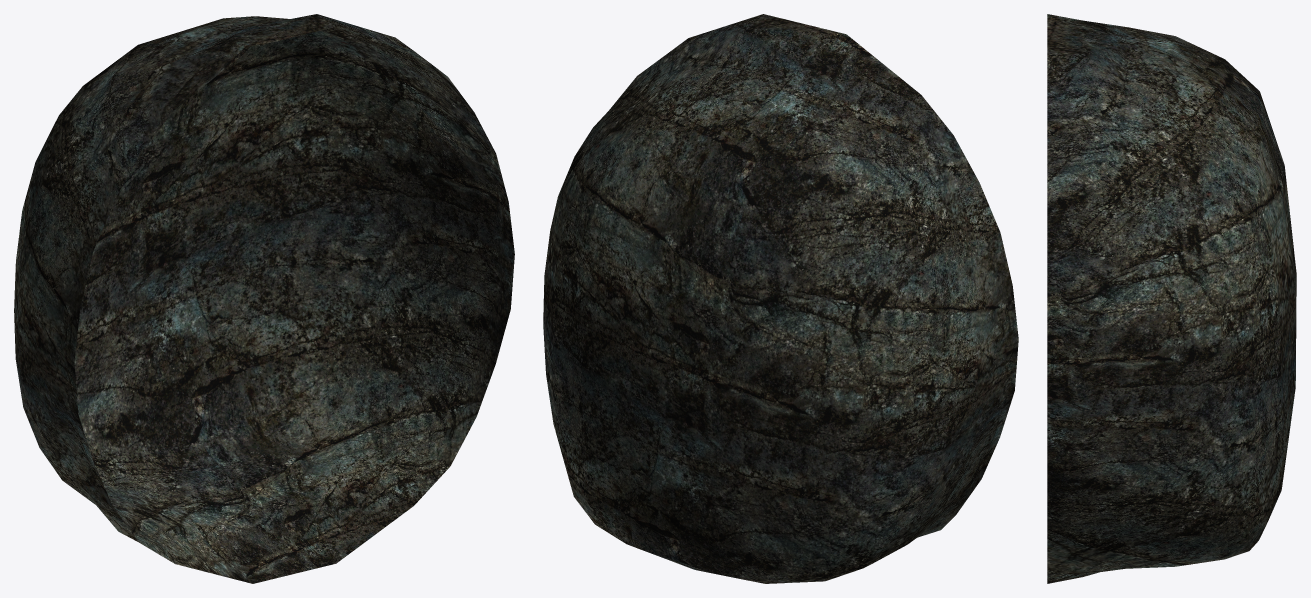
Rendered from tunnel_theta_end.dae.
3 renders of one model, left to right at view 1: azimuth 30°, elevation 25°; view 2: azimuth 150°, elevation 25°; view 3: azimuth 270°, elevation 25°, orthographic. The views are drawn at different scales.
Parts seen in each view (by area): view 1: end; view 2: end; view 3: end.
Boxes of the visible parts, box(x1,y1,x2,y2) form: end: box(14, 14, 514, 583); end: box(543, 14, 1018, 583); end: box(1047, 14, 1296, 583).
Size of the model in its own units: 4.36 by 5.04 by 2.15.
